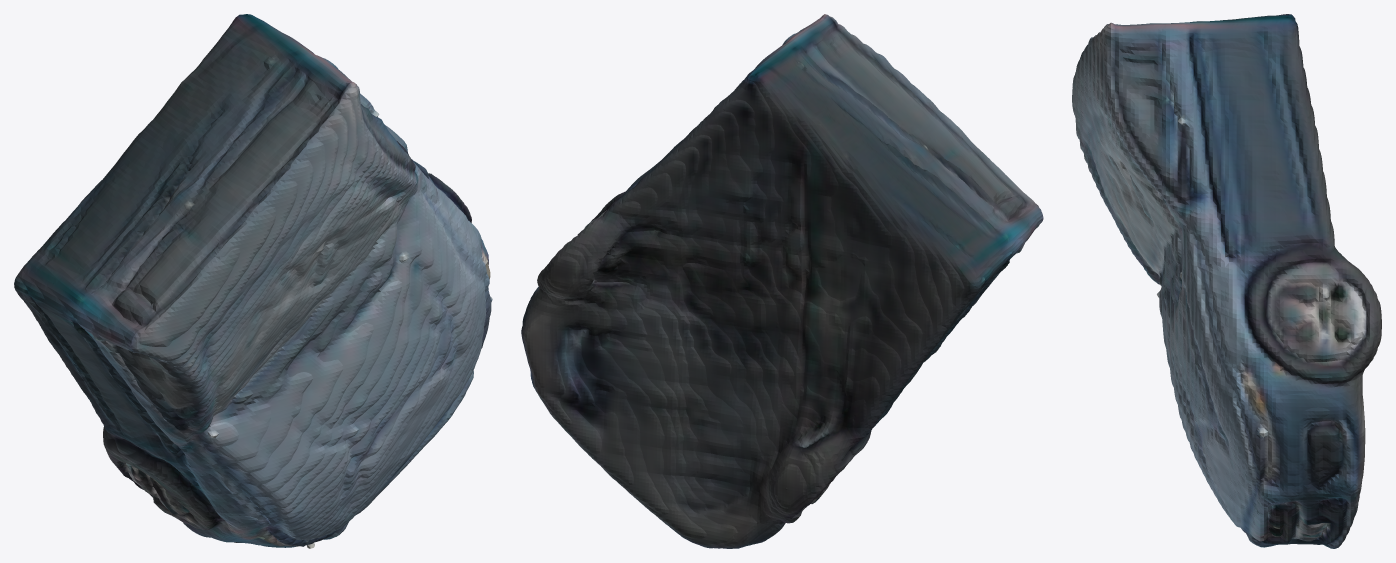
The picture shows the model from 3 angles, left to right: view 1: azimuth 30°, elevation 25°; view 2: azimuth 150°, elevation 25°; view 3: azimuth 270°, elevation 25°; orthographic projection. The views are drawn at different scales.
Parts seen in each view (by area): view 1: world; view 2: world; view 3: world.
Boxes of the visible parts, <box> form: world: <box>14,14,492,548</box>; world: <box>521,14,1043,548</box>; world: <box>1072,14,1381,548</box>.
Size of the model in its own units: 0.9155 by 0.9812 by 0.5386.
